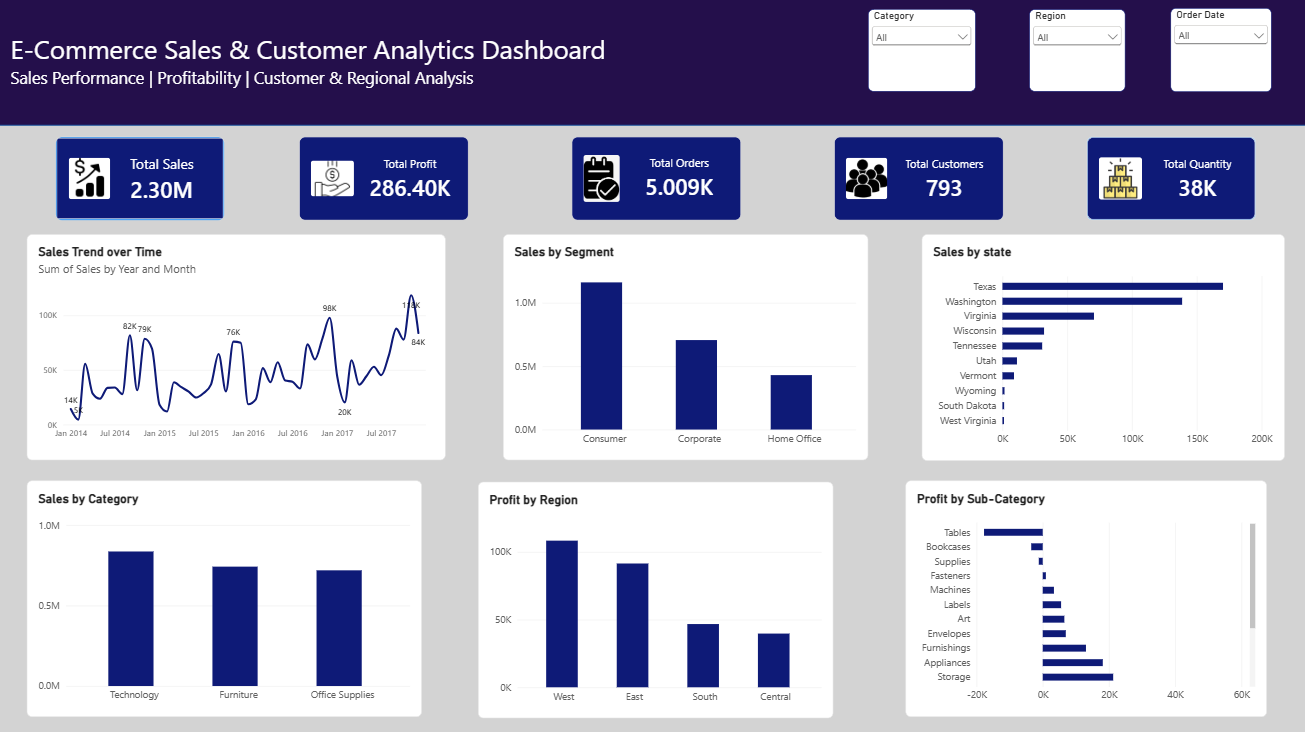

What the dashboard file says about the page in this screenshot:
{"tool":"powerbi","page":{"name":"Page 1","canvas":[1920,1080],"ordinal":0},"visuals":[{"type":"shape","box":[0,0,1920.1,191.8],"z":1000},{"type":"textbox","box":[25.3,56.1,1192.6,119.4],"z":2000},{"type":"lineChart","title":"Sales Trend over Time","fields":{"Category":["superstore_cleaned.Order Date.Variation.Date Hierarchy.Year","superstore_cleaned.Order Date.Variation.Date Hierarchy.Month"],"Y":["Sum(superstore_cleaned.Sales)"]},"box":[48.9,349.6,606.2,327.5],"z":3000},{"type":"clusteredColumnChart","title":"Sales by Segment","fields":{"Category":["superstore_cleaned.Segment"],"Y":["Sum(superstore_cleaned.Sales)"]},"box":[738.3,349.3,528.4,327.5],"z":4000},{"type":"clusteredBarChart","title":"Sales by state","fields":{"Category":["superstore_cleaned.State"],"Y":["Sum(superstore_cleaned.Sales)"]},"box":[1344,349.6,525.3,327.8],"z":5000},{"type":"clusteredColumnChart","title":"Sales by Category","fields":{"Category":["superstore_cleaned.Category"],"Y":["Sum(superstore_cleaned.Sales)"]},"box":[48.9,706.4,572.4,342.3],"z":6000},{"type":"clusteredColumnChart","title":"Profit by Region","fields":{"Category":["superstore_cleaned.Region"],"Y":["Sum(superstore_cleaned.Profit)"]},"box":[702.8,708.2,514.4,342.3],"z":7000},{"type":"clusteredBarChart","title":"Profit by Sub-Category","fields":{"Category":["superstore_cleaned.Sub-Category"],"Y":["Sum(superstore_cleaned.Profit)"]},"box":[1320.5,706.4,523.5,342.3],"z":8000},{"type":"cardVisual","fields":{"Data":["Sum(superstore_cleaned.Sales)"]},"box":[90.5,208.1,245,121.4],"z":9000},{"type":"cardVisual","fields":{"Data":["Sum(superstore_cleaned.Profit)"]},"box":[443.4,208.1,245,121],"z":10000},{"type":"cardVisual","fields":{"Data":["Count(superstore_cleaned.Order ID)"]},"box":[838.6,208.3,245,121],"z":11000},{"type":"cardVisual","fields":{"Data":["Count(superstore_cleaned.Customer ID)"]},"box":[1217.2,208.3,245,121],"z":12000},{"type":"cardVisual","fields":{"Data":["Sum(superstore_cleaned.Quantity)"]},"box":[1583.1,208.3,245,121],"z":13000},{"type":"slicer","fields":{"Values":["superstore_cleaned.Category"]},"box":[1266.8,23.5,155.6,119.4],"z":14000},{"type":"slicer","fields":{"Values":["superstore_cleaned.Region"]},"box":[1500.2,23.5,139.3,119.4],"z":15000},{"type":"slicer","fields":{"Values":["superstore_cleaned.Order Date"]},"box":[1704.7,21.7,146.6,121.2],"z":16000}]}

Visuals, with their boxes in screenshot pixels (x1, y1, x2, y2), scaled from the page's 1920x1080 canvas onto the 1305x732 screenshot:
shape: box=[0, 0, 1304, 130]
textbox: box=[17, 38, 828, 119]
"Sales Trend over Time" lineChart: box=[33, 237, 445, 459]
"Sales by Segment" clusteredColumnChart: box=[502, 237, 861, 459]
"Sales by state" clusteredBarChart: box=[914, 237, 1271, 459]
"Sales by Category" clusteredColumnChart: box=[33, 479, 422, 711]
"Profit by Region" clusteredColumnChart: box=[478, 480, 827, 712]
"Profit by Sub-Category" clusteredBarChart: box=[898, 479, 1253, 711]
cardVisual - Sum(superstore_cleaned.Sales): box=[62, 141, 228, 223]
cardVisual - Sum(superstore_cleaned.Profit): box=[301, 141, 468, 223]
cardVisual - Count(superstore_cleaned.Order ID): box=[570, 141, 737, 223]
cardVisual - Count(superstore_cleaned.Customer ID): box=[827, 141, 994, 223]
cardVisual - Sum(superstore_cleaned.Quantity): box=[1076, 141, 1243, 223]
slicer - superstore_cleaned.Category: box=[861, 16, 967, 97]
slicer - superstore_cleaned.Region: box=[1020, 16, 1114, 97]
slicer - superstore_cleaned.Order Date: box=[1159, 15, 1258, 97]
